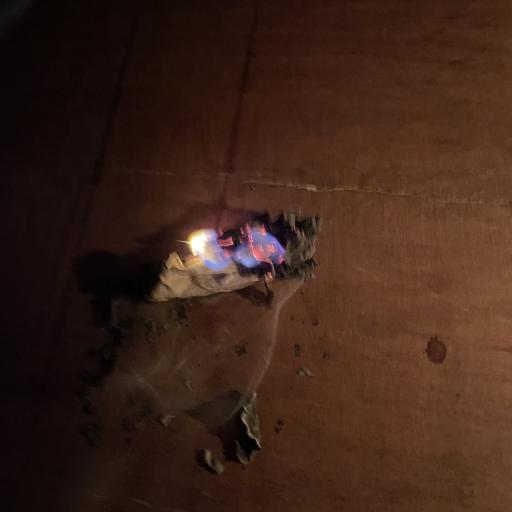fire: (170, 203, 303, 306)
